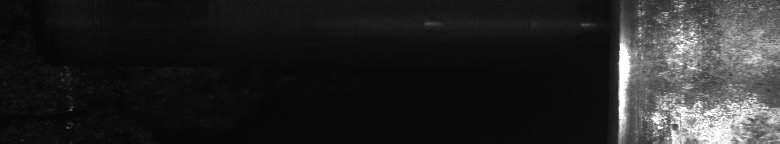kb: (628, 4, 776, 136)
